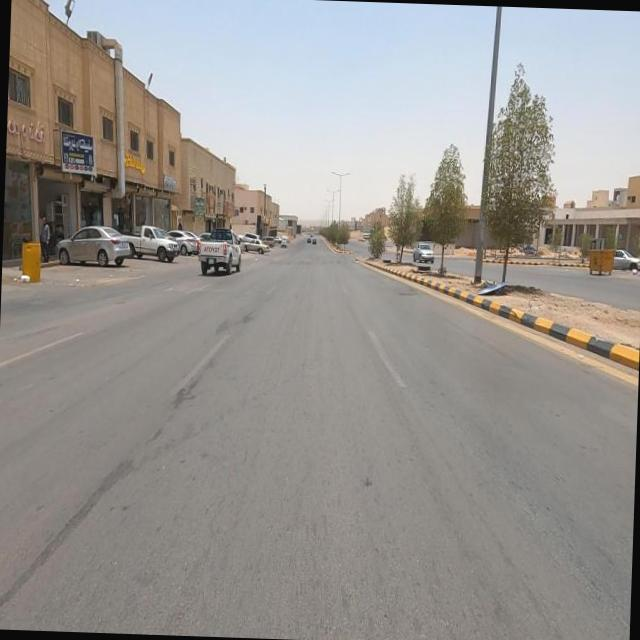debris: (454, 262, 526, 320), (137, 151, 201, 216), (187, 164, 232, 246), (2, 243, 50, 313), (208, 183, 254, 235), (621, 253, 640, 292)
